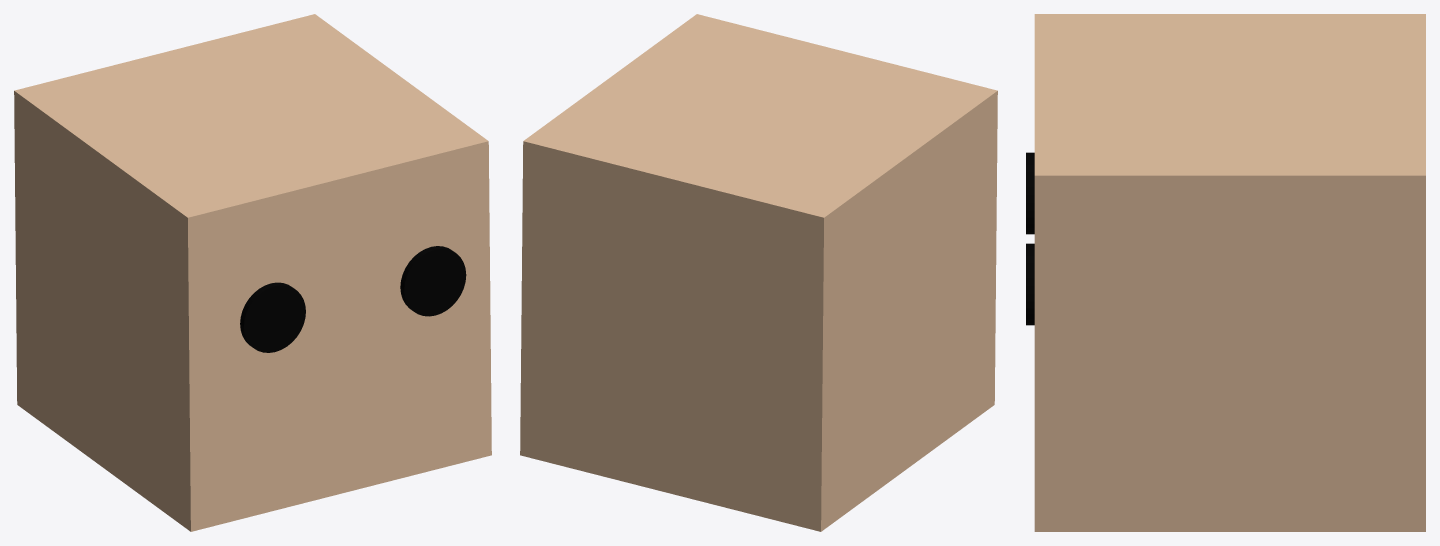
Rendered from Player.fbx.
3 views of the same model, side by side, from view 1: azimuth 30°, elevation 25°; view 2: azimuth 150°, elevation 25°; view 3: azimuth 270°, elevation 25° (orthographic). The views are drawn at different scales.
Visible parts, largest first — view 1: Player; view 2: Player; view 3: Player.
Part boxes in pixels (bbox=[...]): Player: bbox=[14, 14, 491, 531]; Player: bbox=[520, 14, 997, 531]; Player: bbox=[1026, 14, 1425, 531].
Size of the model in its own units: 202 by 202 by 204.
